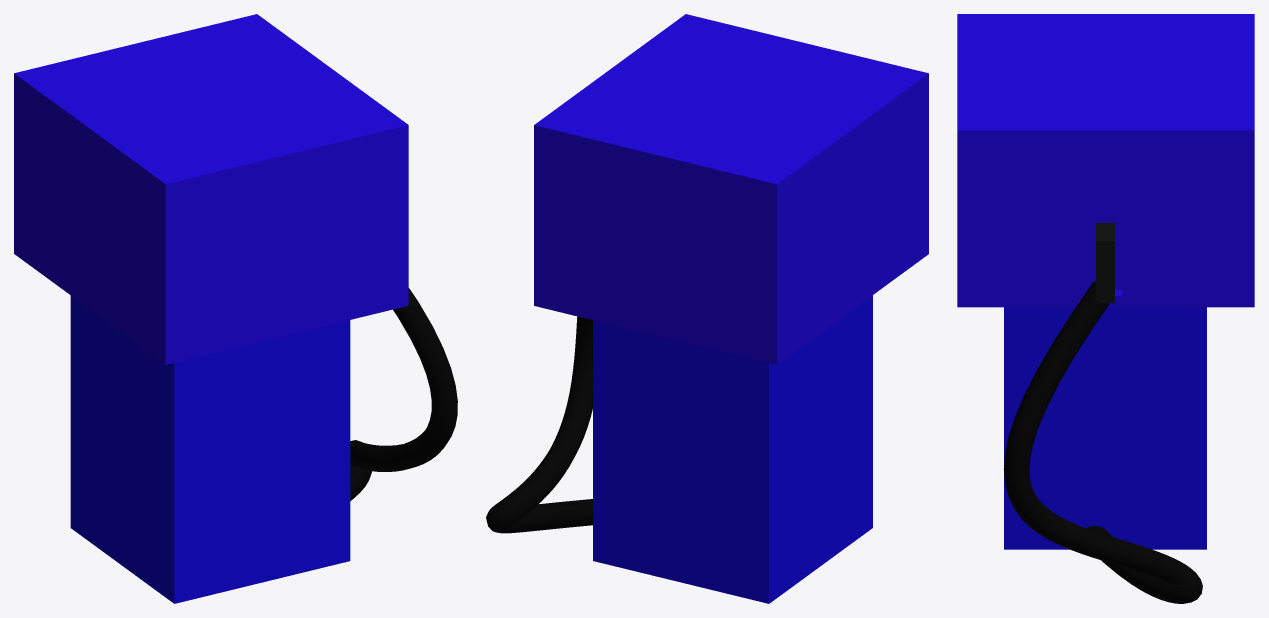
File: Laadpaal.fbx
3 views of the same model, side by side, from view 1: azimuth 30°, elevation 25°; view 2: azimuth 150°, elevation 25°; view 3: azimuth 270°, elevation 25° (orthographic). The views are drawn at different scales.
Visible parts, largest first — view 1: Cube.001, Cube, NurbsPath; view 2: Cube.001, Cube, NurbsPath; view 3: Cube.001, Cube, NurbsPath, Cube.002.
Boxes of the visible parts, <box> form: Cube.001: <box>14,14,408,364</box>; Cube: <box>70,295,350,603</box>; NurbsPath: <box>350,288,457,500</box>; Cube.001: <box>534,14,928,364</box>; Cube: <box>593,295,872,603</box>; NurbsPath: <box>486,316,592,533</box>; Cube.001: <box>957,14,1254,307</box>; Cube: <box>1004,307,1206,549</box>; NurbsPath: <box>1003,281,1202,603</box>; Cube.002: <box>1096,223,1114,302</box>.
Bounding box in the file's own units: 141 × 189 × 115.
